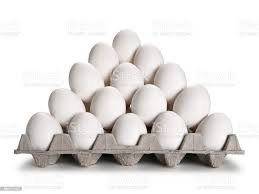eggs: (199, 105, 235, 154), (174, 78, 211, 119), (148, 106, 186, 145), (69, 54, 102, 97), (67, 104, 97, 148), (129, 82, 161, 118), (90, 37, 121, 74), (112, 103, 140, 141), (55, 82, 82, 121), (91, 86, 118, 124), (153, 59, 181, 95), (115, 23, 146, 55), (27, 108, 56, 139), (134, 44, 161, 77), (113, 64, 141, 93)
